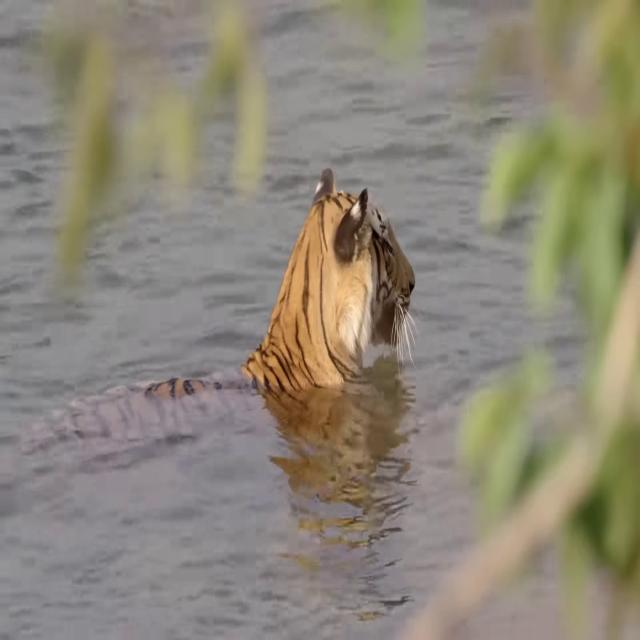tiger: (30, 166, 416, 447)
